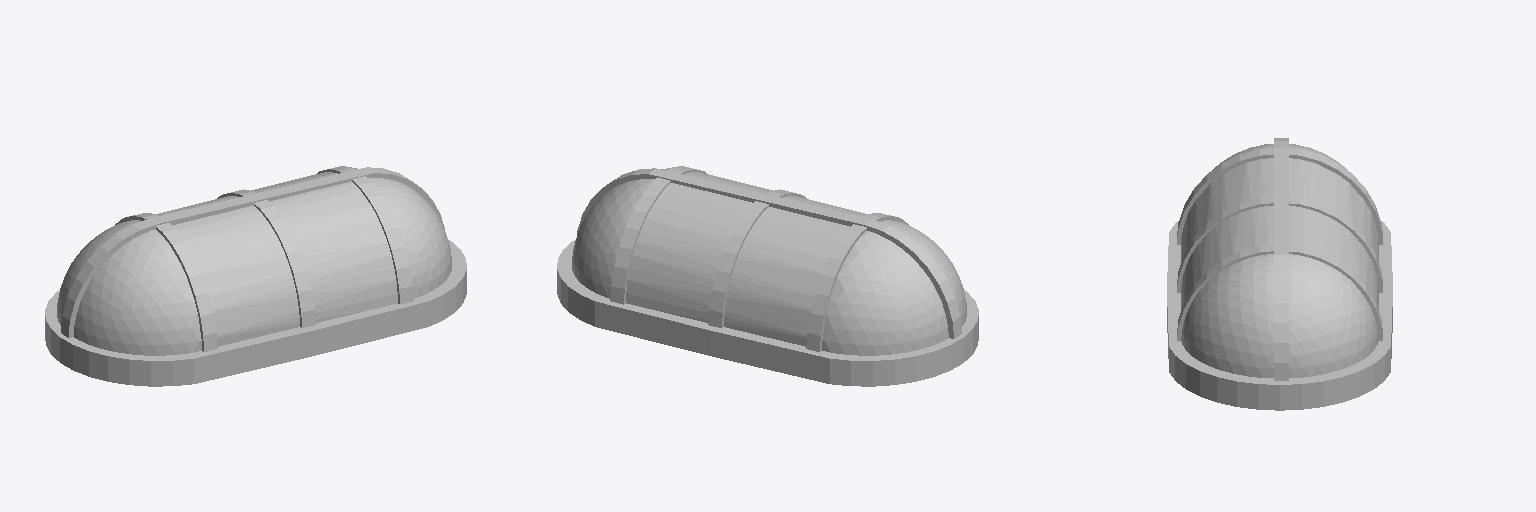
The model's file is SubBulb.obj.
The picture shows the model from 3 angles: view 1: azimuth 30°, elevation 25°; view 2: azimuth 150°, elevation 25°; view 3: azimuth 270°, elevation 25°; orthographic projection.
Visible parts, largest first — view 1: Icosphere, Circle, Circle.004, Circle.003, Circle.001, Circle.002; view 2: Icosphere, Circle, Circle.004, Circle.003, Circle.001, Circle.002; view 3: Icosphere, Circle, Circle.004, Circle.003, Circle.002, Circle.001.
Part boxes in pixels (x1,y1,x2,y2): Icosphere: (57,168,451,355); Circle: (45,240,466,386); Circle.004: (61,167,444,337); Circle.003: (115,213,217,351); Circle.001: (217,189,315,327); Circle.002: (317,166,413,304); Icosphere: (572,168,966,355); Circle: (557,240,978,386); Circle.004: (577,168,961,338); Circle.003: (806,213,908,351); Circle.001: (708,189,806,327); Circle.002: (610,166,706,304); Icosphere: (1181,144,1378,377); Circle: (1167,221,1392,410); Circle.004: (1274,138,1288,380); Circle.003: (1177,148,1382,244); Circle.002: (1177,245,1382,340); Circle.001: (1177,197,1382,292).
Size of the model in its own units: 4 by 1.15 by 2.